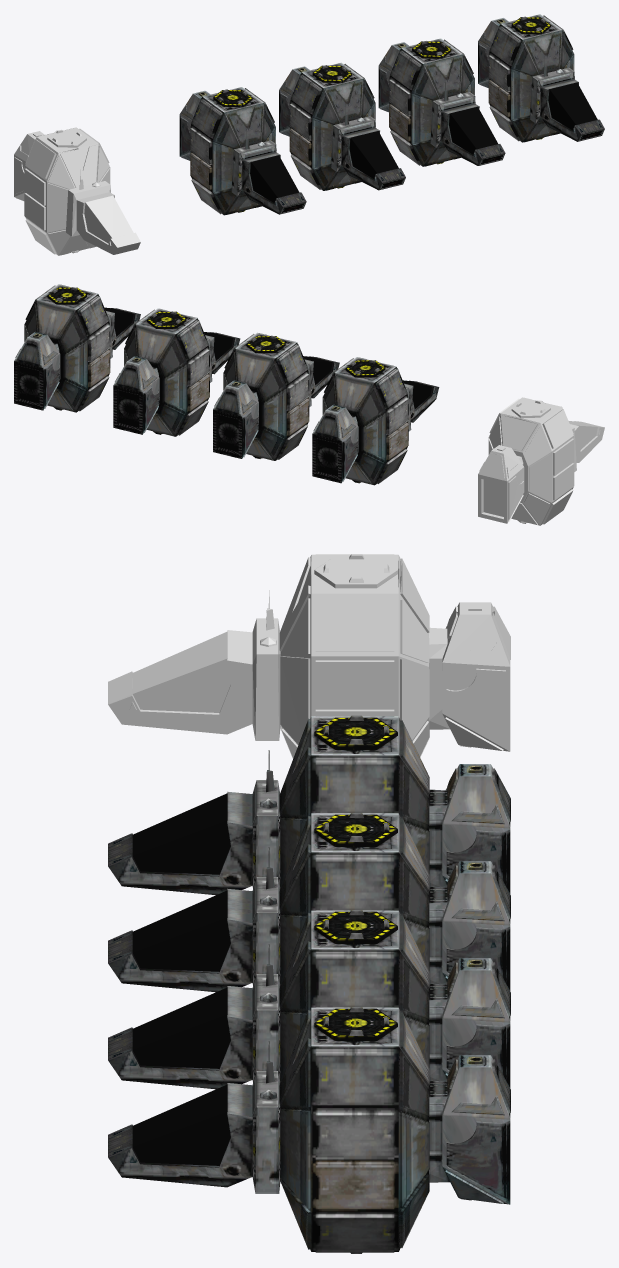
The model's file is ter_centaur.DAE.
The picture shows the model from 3 angles, top to bottom: view 1: azimuth 30°, elevation 25°; view 2: azimuth 150°, elevation 25°; view 3: azimuth 270°, elevation 25°; orthographic projection. The views are drawn at different scales.
Visible parts, largest first — view 1: MULT[Root_mesh]_LOD[0], MULT[Root_mesh]_LOD[2], MULT[Root_mesh]_LOD[1], MULT[Root_mesh]_LOD[3], COL[Root]; view 2: MULT[Root_mesh]_LOD[0], COL[Root], MULT[Root_mesh]_LOD[3], MULT[Root_mesh]_LOD[2], MULT[Root_mesh]_LOD[1]; view 3: MULT[Root_mesh]_LOD[3], COL[Root], MULT[Root_mesh]_LOD[0], MULT[Root_mesh]_LOD[2], MULT[Root_mesh]_LOD[1].
Part boxes in pixels (x1,y1,x2,y2): MULT[Root_mesh]_LOD[0]: (179, 87, 306, 215); MULT[Root_mesh]_LOD[2]: (378, 38, 505, 166); MULT[Root_mesh]_LOD[1]: (279, 62, 405, 190); MULT[Root_mesh]_LOD[3]: (478, 14, 604, 142); COL[Root]: (14, 127, 140, 255); MULT[Root_mesh]_LOD[0]: (312, 357, 439, 485); COL[Root]: (478, 397, 604, 525); MULT[Root_mesh]_LOD[3]: (14, 284, 140, 412); MULT[Root_mesh]_LOD[2]: (113, 308, 240, 436); MULT[Root_mesh]_LOD[1]: (213, 332, 339, 460); MULT[Root_mesh]_LOD[3]: (108, 1007, 510, 1253); COL[Root]: (108, 554, 510, 758); MULT[Root_mesh]_LOD[0]: (108, 715, 510, 895); MULT[Root_mesh]_LOD[2]: (108, 910, 510, 1089); MULT[Root_mesh]_LOD[1]: (108, 813, 510, 992).
Size of the model in its own units: 73.6 by 14.75 by 24.2.
2 materials, 2 textured.
